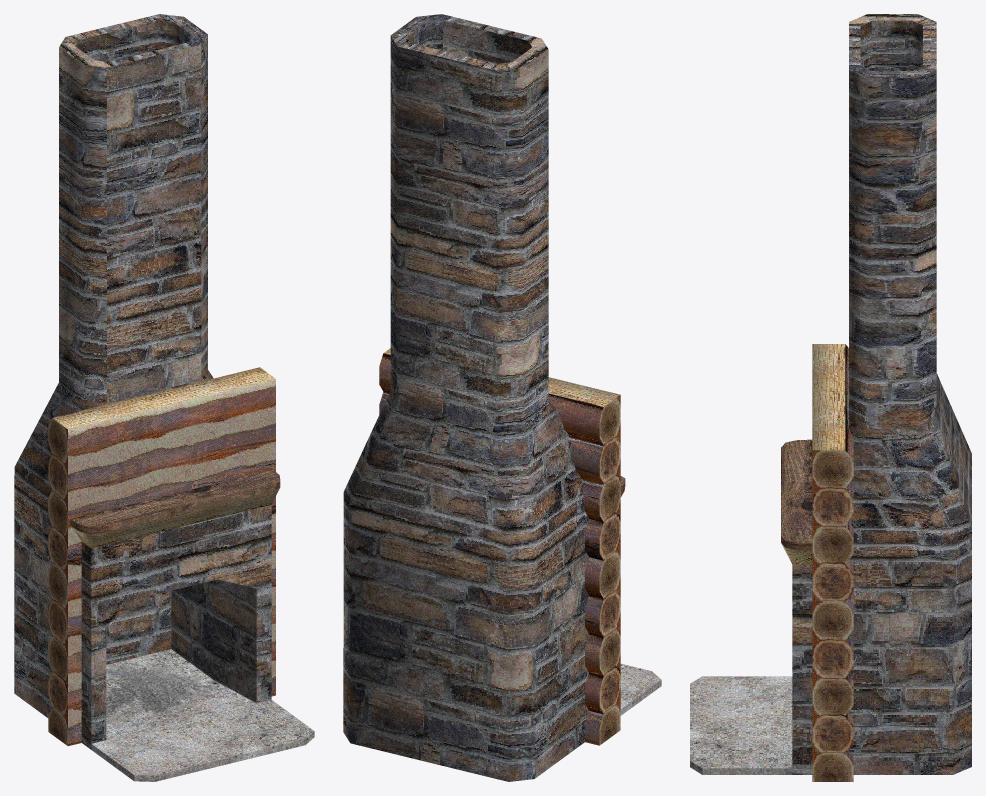
File: wall-A-fireplace.glb
3 renders of one model, left to right at view 1: azimuth 30°, elevation 25°; view 2: azimuth 150°, elevation 25°; view 3: azimuth 270°, elevation 25°, orthographic. The views are drawn at different scales.
Parts seen in each view (by area): view 1: wall-A-fireplace.001; view 2: wall-A-fireplace.001; view 3: wall-A-fireplace.001.
Boxes of the visible parts, left/top/right/bottom form: wall-A-fireplace.001: left=14, top=14, right=314, bottom=781; wall-A-fireplace.001: left=343, top=14, right=661, bottom=781; wall-A-fireplace.001: left=690, top=14, right=971, bottom=781.
Size of the model in its own units: 2 by 5.99 by 2.24.
Materials: 6 (6 with a texture image).
